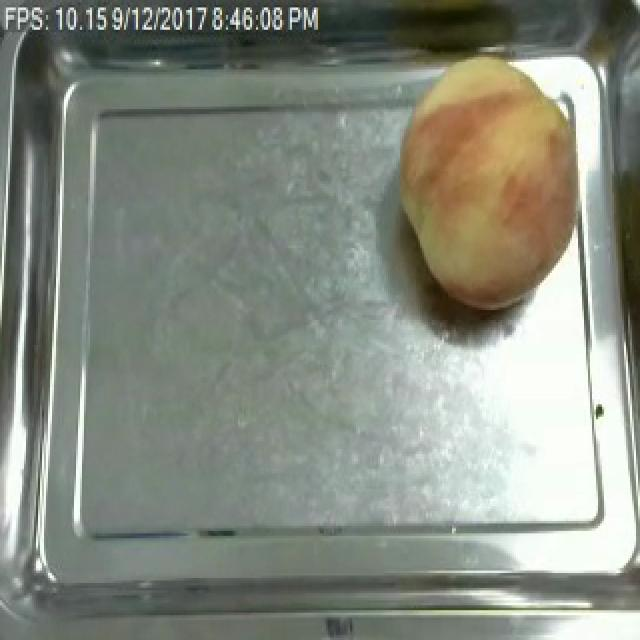Fruit: (388, 50, 590, 318)
